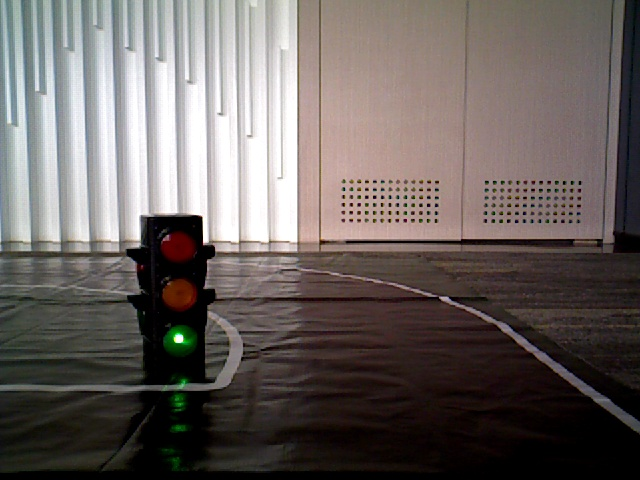green: (144, 225, 203, 365)
